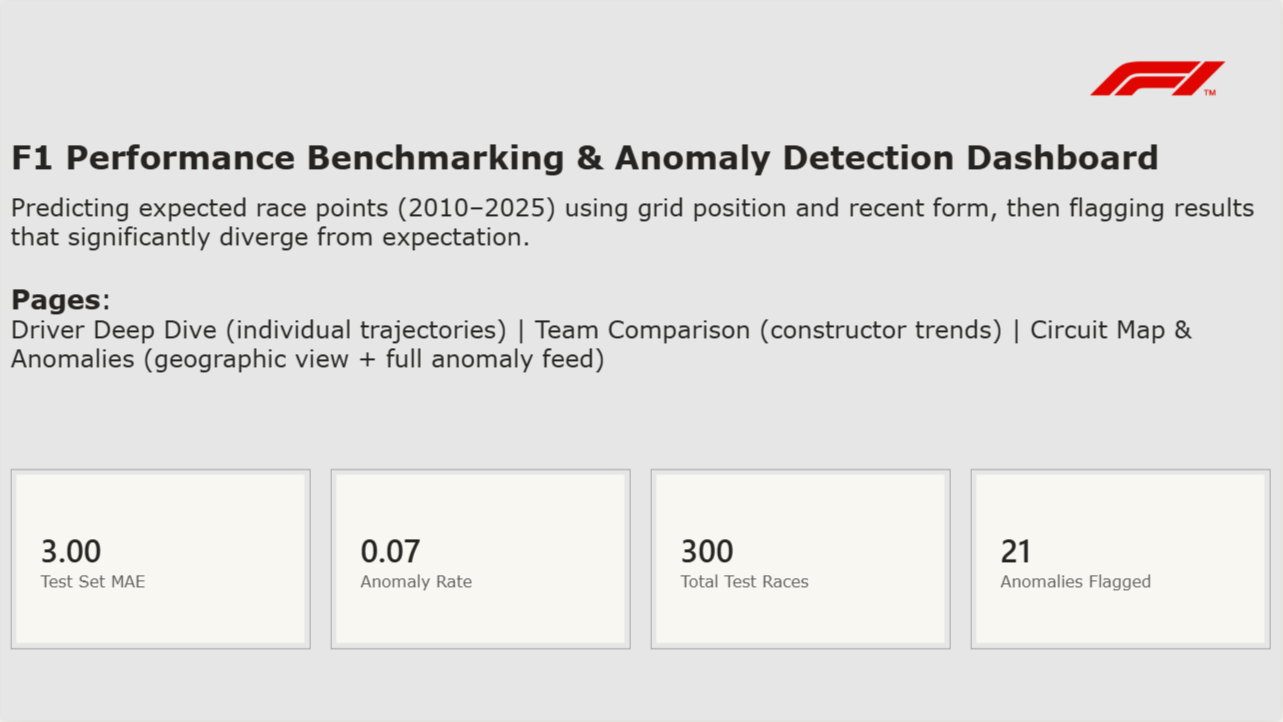

What the dashboard file says about the page in this screenshot:
{"tool":"powerbi","page":{"name":"Overview","canvas":[1280,720],"ordinal":3},"visuals":[{"type":"textbox","box":[10,0,988.4,229.2],"z":0},{"type":"cardVisual","fields":{"Data":["model_results.Test Set MAE"]},"box":[10,228.5,644,177],"z":1},{"type":"cardVisual","fields":{"Data":["model_results.Anomalies Flagged"]},"box":[10,457.5,644,177],"z":2},{"type":"cardVisual","fields":{"Data":["model_results.Anomaly Rate"]},"box":[653.9,229.2,616.3,176.6],"z":3},{"type":"cardVisual","fields":{"Data":["model_results.Total Test Races"]},"box":[640.1,458.5,616.3,176.6],"z":4}]}

Visuals, with their boxes in screenshot pixels (x1, y1, x2, y2), scaled from the page's 1280x720 canvas onto the 1283x722 screenshot:
textbox: pyautogui.locateOnScreen(10, 0, 1001, 230)
cardVisual - model_results.Test Set MAE: pyautogui.locateOnScreen(10, 229, 656, 407)
cardVisual - model_results.Anomalies Flagged: pyautogui.locateOnScreen(10, 459, 656, 636)
cardVisual - model_results.Anomaly Rate: pyautogui.locateOnScreen(655, 230, 1273, 407)
cardVisual - model_results.Total Test Races: pyautogui.locateOnScreen(642, 460, 1259, 637)
